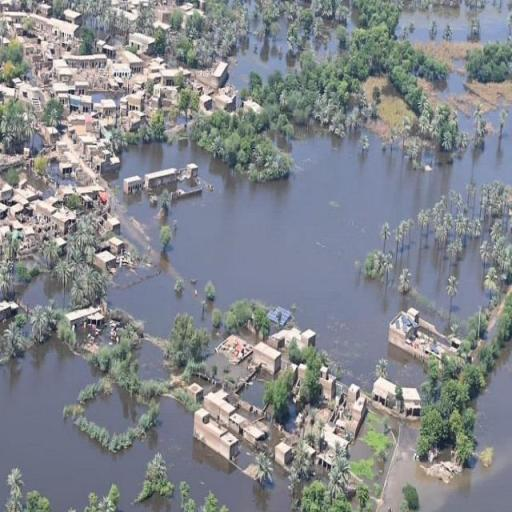flood: (110, 105, 512, 392), (0, 338, 292, 512), (385, 343, 512, 512), (401, 0, 512, 42), (232, 19, 297, 88), (85, 388, 144, 433), (119, 193, 161, 256), (19, 274, 62, 306), (139, 344, 167, 379), (27, 171, 54, 198), (312, 33, 340, 56), (234, 442, 256, 470), (88, 90, 122, 106), (352, 438, 372, 461), (244, 381, 263, 404), (49, 164, 70, 184), (347, 17, 356, 31)
house: (192, 407, 242, 460), (390, 305, 434, 361), (372, 365, 418, 416), (10, 184, 56, 220), (336, 384, 366, 439), (226, 334, 272, 369), (202, 389, 240, 424), (66, 305, 107, 336), (250, 340, 284, 376), (217, 334, 253, 364), (110, 50, 142, 80), (208, 85, 239, 113), (201, 60, 230, 86), (94, 212, 121, 238), (92, 150, 118, 176), (66, 92, 96, 114), (66, 54, 107, 70), (92, 248, 118, 272), (46, 23, 78, 42), (54, 210, 76, 237), (129, 32, 155, 54), (146, 168, 177, 186), (124, 172, 142, 198), (149, 69, 172, 88), (276, 441, 292, 465), (102, 99, 116, 122), (301, 328, 317, 348), (126, 94, 143, 112), (65, 9, 83, 26), (180, 163, 199, 177), (59, 160, 72, 176)
